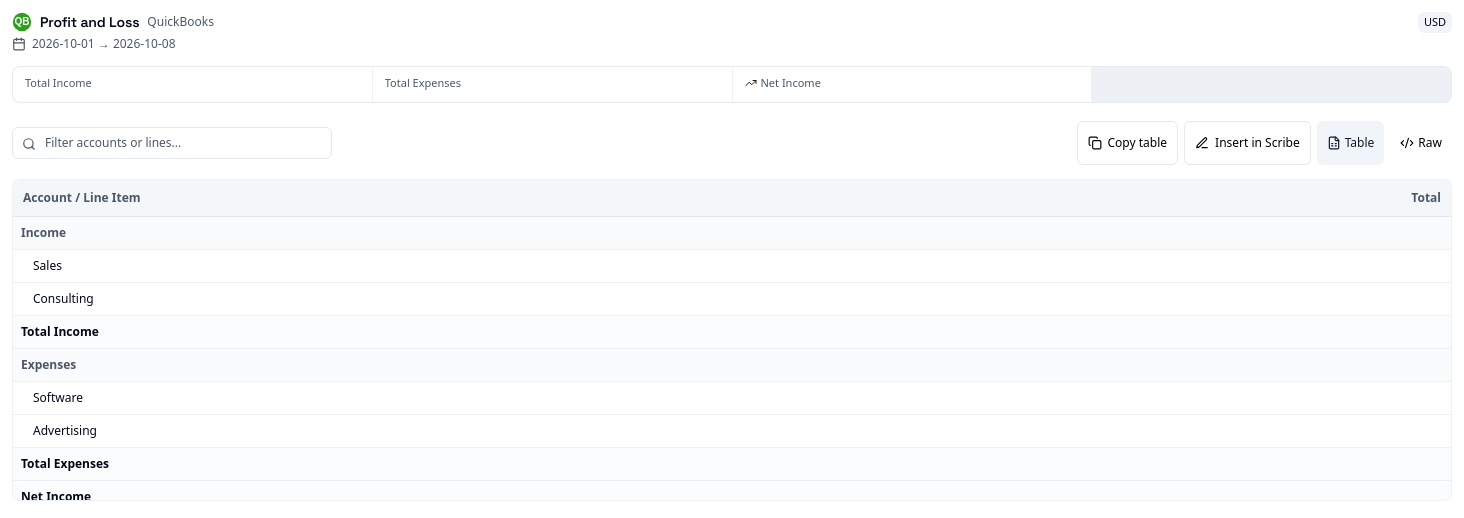
Test: FinancialReportItemView › switches between structured table view and raw text view
Click the button "Raw": (1421, 142) [1390,120,1452,164]
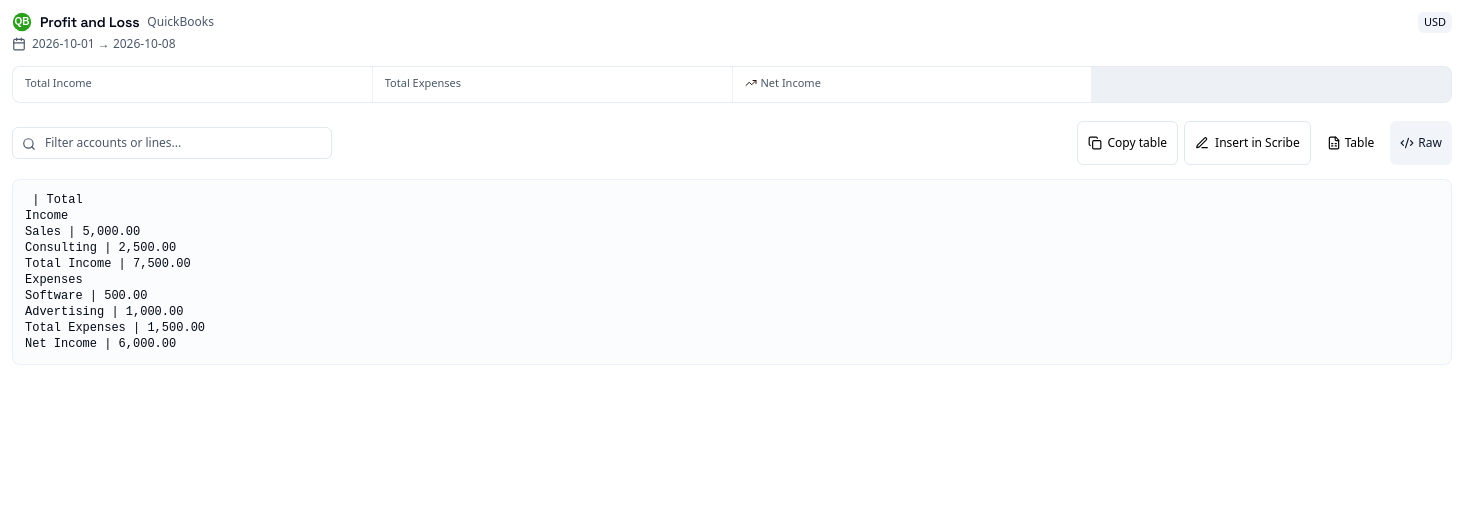
Expected: the table is gone
Expected: the text "Sales | 5,000.00" is shown, [25,192,205,350]
Click the button "Table": (1351, 142) [1317,120,1384,164]
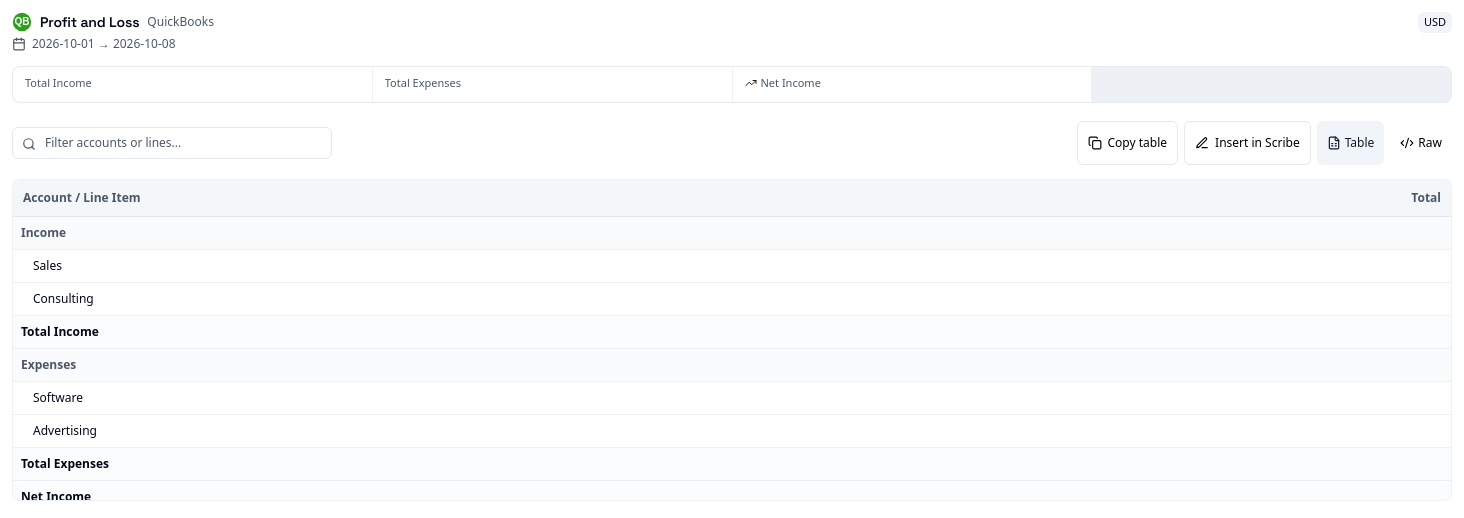
Expected: the table is shown
